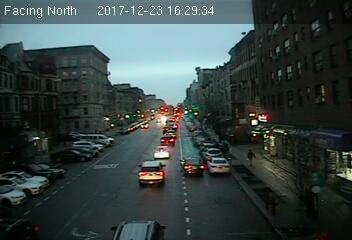car: (138, 160, 167, 185), (179, 156, 205, 176), (207, 155, 231, 174), (152, 146, 171, 160), (159, 134, 175, 145)
pedestrian: (244, 149, 256, 168)
